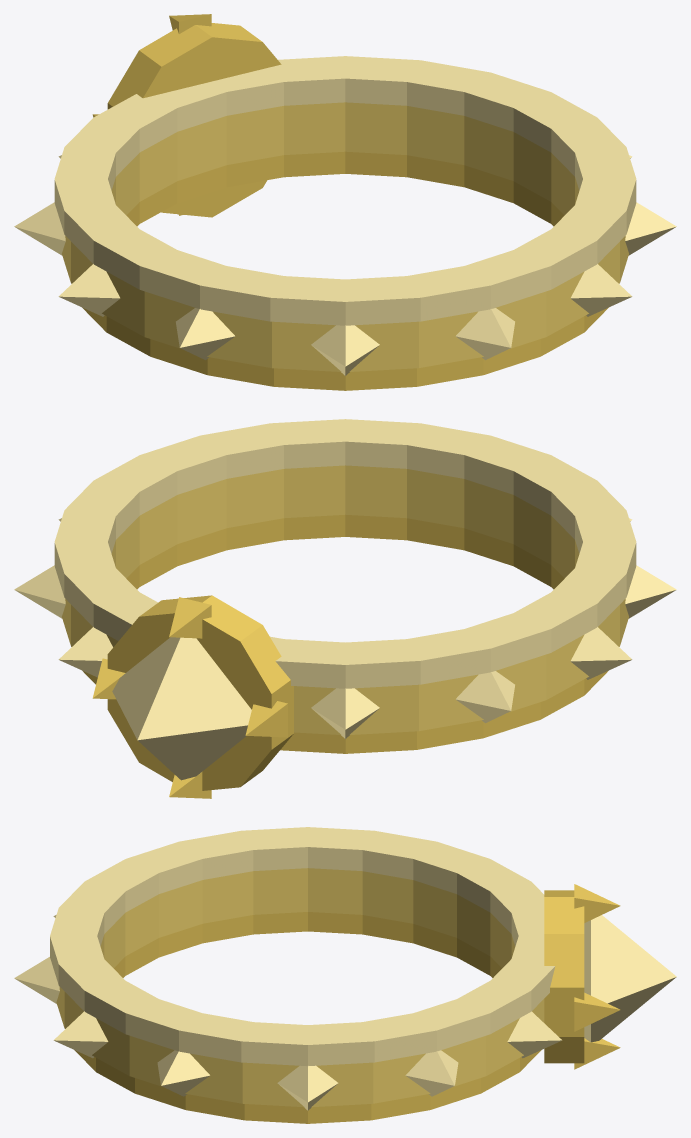
The model's file is GoldBand.fbx.
3 renders of one model, top to bottom at view 1: azimuth 30°, elevation 25°; view 2: azimuth 150°, elevation 25°; view 3: azimuth 270°, elevation 25°, orthographic. The views are drawn at different scales.
Visible parts, largest first — view 1: GoldBand.BrightTrim, GoldBand.BandBody, GoldBand.DarkTrim; view 2: GoldBand.BrightTrim, GoldBand.BandBody, GoldBand.DarkTrim, GoldBand.Boss; view 3: GoldBand.BrightTrim, GoldBand.BandBody, GoldBand.DarkTrim, GoldBand.Boss.
Part boxes in pixels (left/top/right/bottom): GoldBand.BrightTrim: left=14, top=56, right=676, bottom=375; GoldBand.BandBody: left=62, top=102, right=628, bottom=371; GoldBand.DarkTrim: left=82, top=14, right=608, bottom=390; GoldBand.BrightTrim: left=14, top=419, right=676, bottom=738; GoldBand.BandBody: left=62, top=465, right=628, bottom=734; GoldBand.DarkTrim: left=83, top=514, right=607, bottom=798; GoldBand.Boss: left=112, top=637, right=251, bottom=780; GoldBand.BrightTrim: left=14, top=827, right=562, bottom=1110; GoldBand.BandBody: left=56, top=868, right=544, bottom=1107; GoldBand.DarkTrim: left=74, top=884, right=620, bottom=1123; GoldBand.Boss: left=584, top=915, right=676, bottom=1042.
Size of the model in its own units: 1.77 by 0.57 by 1.99.
